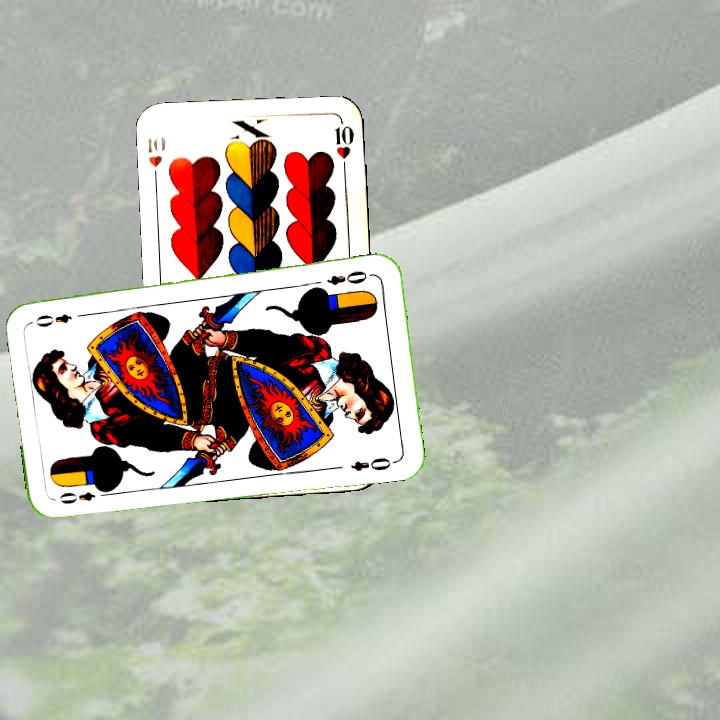EO: (323, 266, 376, 288), (55, 488, 98, 507)
H10: (143, 134, 164, 187)
